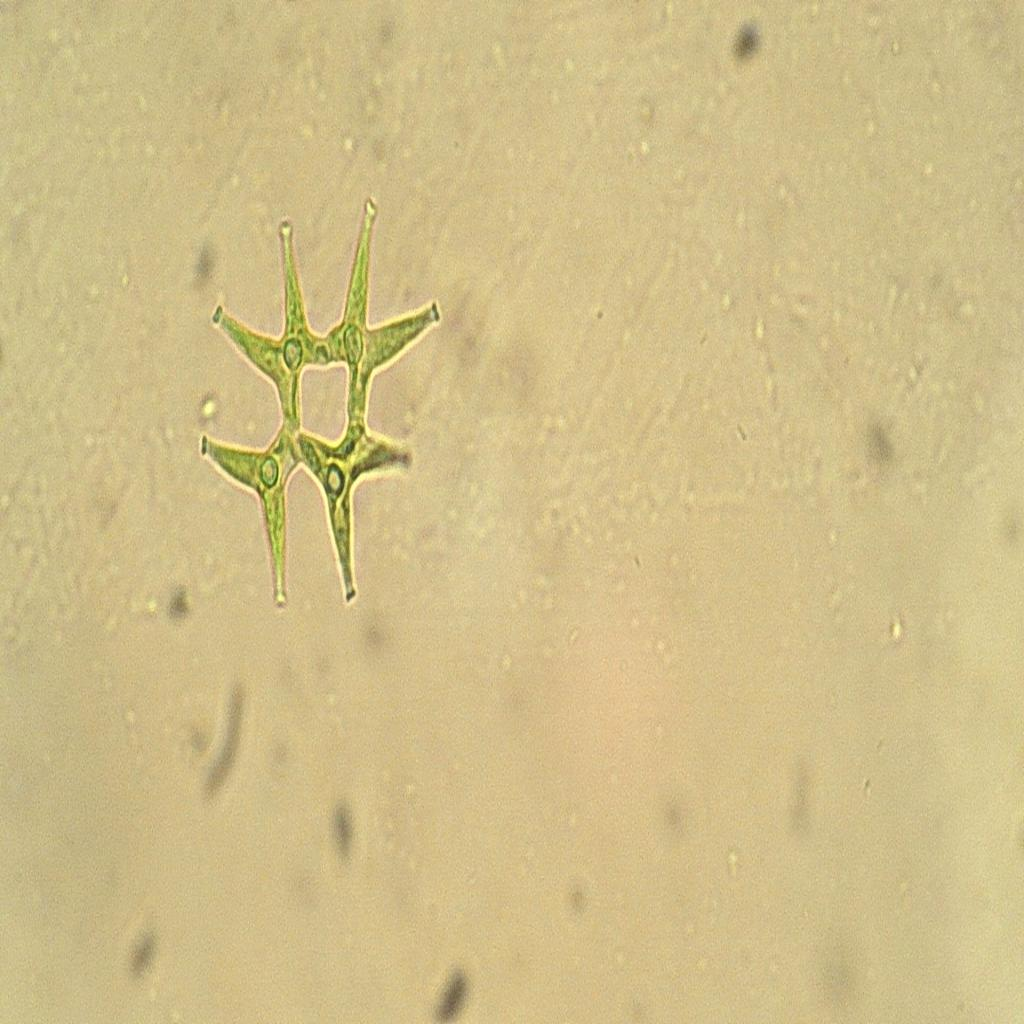Pediastrum_75FI: (189, 168, 460, 617)
